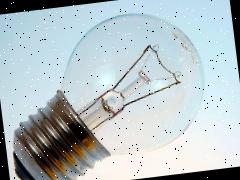lightbulb: (0, 5, 215, 180)
